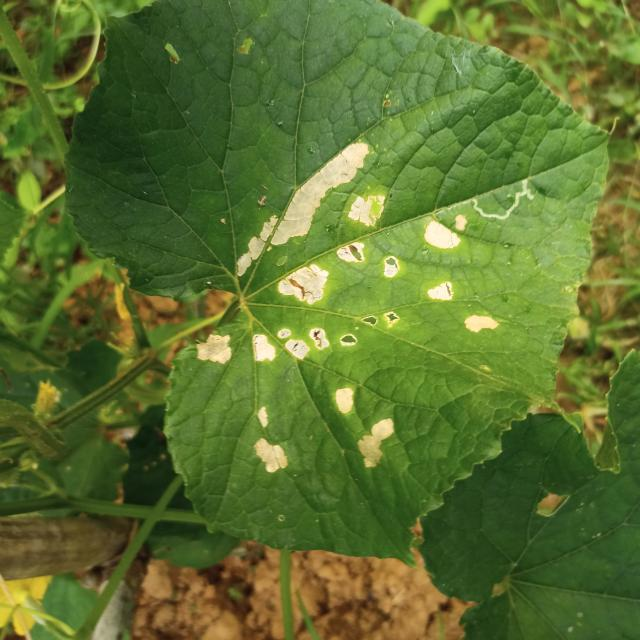disease_cucumber: (190, 141, 405, 372), (421, 216, 499, 334), (331, 381, 397, 473), (250, 404, 288, 475)
